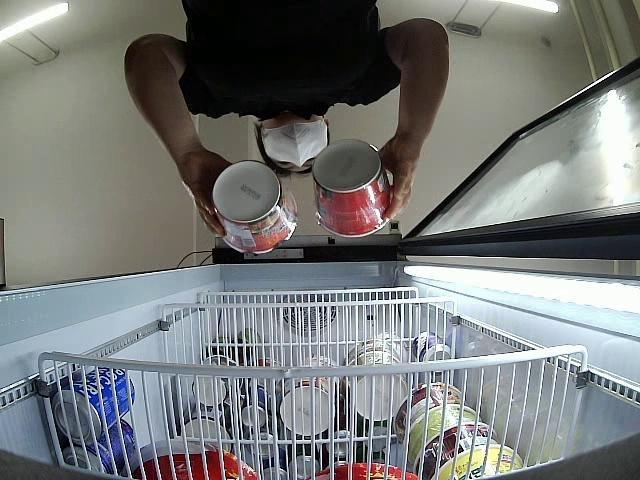01_ShinRamen_L: (210, 160, 298, 256), (314, 138, 394, 238)
